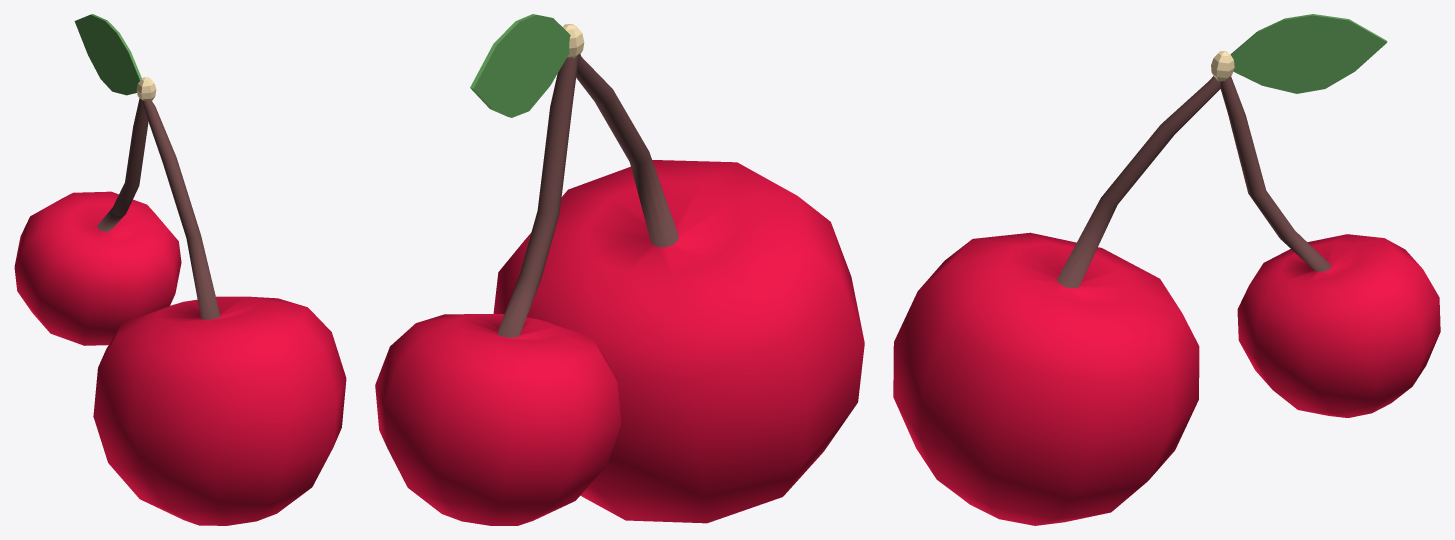
File: Ciliegia.fbx
3 views of the same model, side by side, from view 1: azimuth 30°, elevation 25°; view 2: azimuth 150°, elevation 25°; view 3: azimuth 270°, elevation 25° (orthographic). The views are drawn at different scales.
Visible parts, largest first — view 1: ciliegie; view 2: ciliegie; view 3: ciliegie.
Boxes of the visible parts, bbox=[...] form: ciliegie: bbox=[14, 14, 346, 525]; ciliegie: bbox=[375, 14, 864, 525]; ciliegie: bbox=[893, 14, 1440, 525].
Size of the model in its own units: 7.8 by 14.33 by 14.4.
